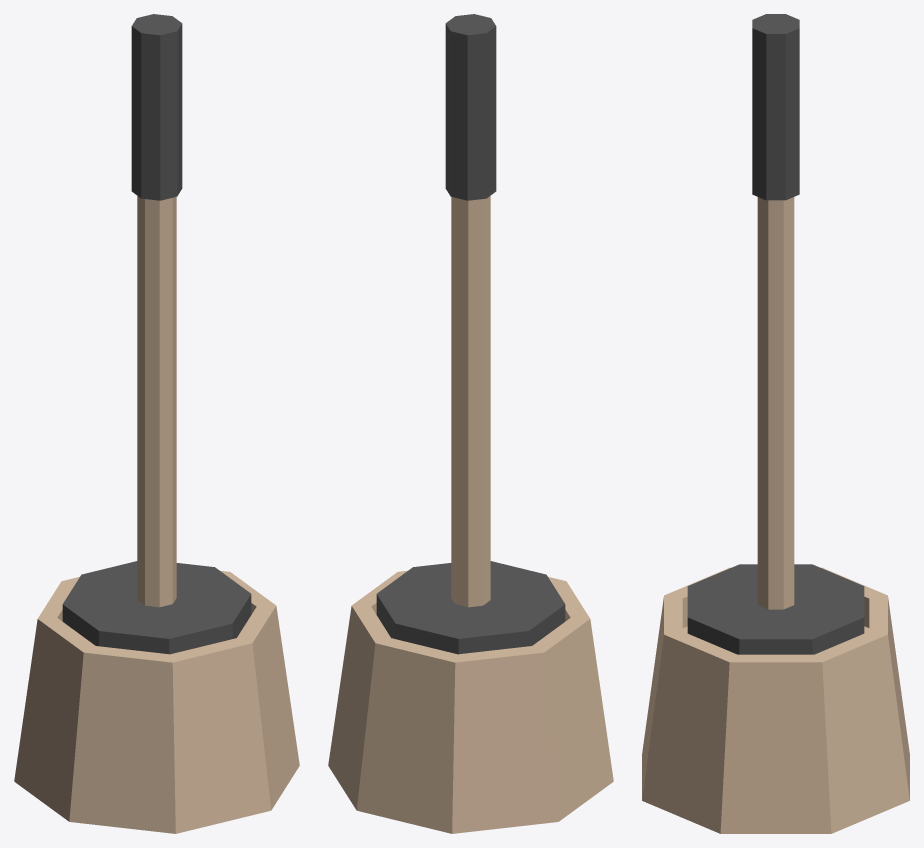
Rendered from BathroomProps_12.fbx.
The picture shows the model from 3 angles, left to right: view 1: azimuth 30°, elevation 25°; view 2: azimuth 150°, elevation 25°; view 3: azimuth 270°, elevation 25°; orthographic projection.
Parts seen in each view (by area): view 1: BathroomProps_12; view 2: BathroomProps_12; view 3: BathroomProps_12.
Part boxes in pixels (x1,y1,x2,y2): BathroomProps_12: [14, 14, 299, 833]; BathroomProps_12: [328, 14, 613, 833]; BathroomProps_12: [642, 14, 909, 833].
Bounding box in the file's own units: 15.08 × 46.81 × 15.08.
